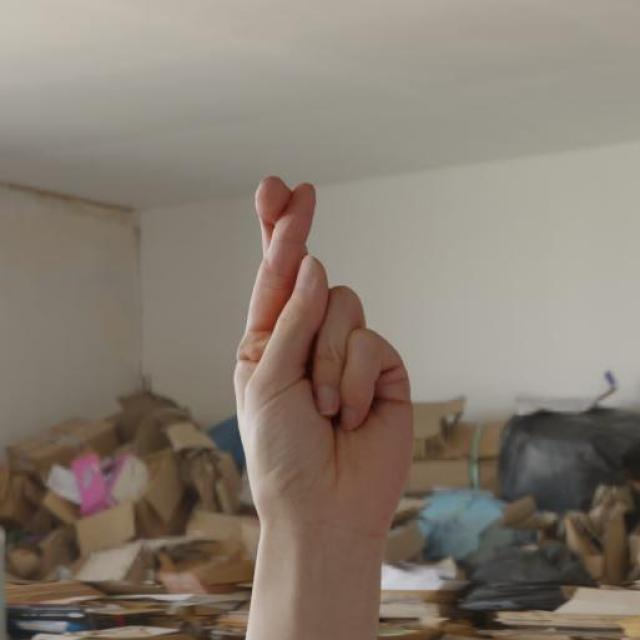R: (230, 174, 419, 528)
